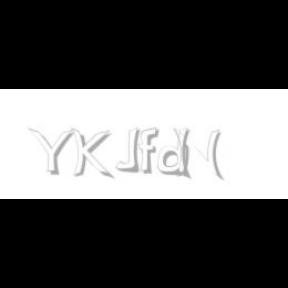J: (114, 128, 140, 172)
K: (71, 128, 111, 180)
N: (172, 128, 222, 180)
Y: (28, 128, 74, 176)
d: (158, 128, 195, 180)
f: (139, 128, 163, 174)
